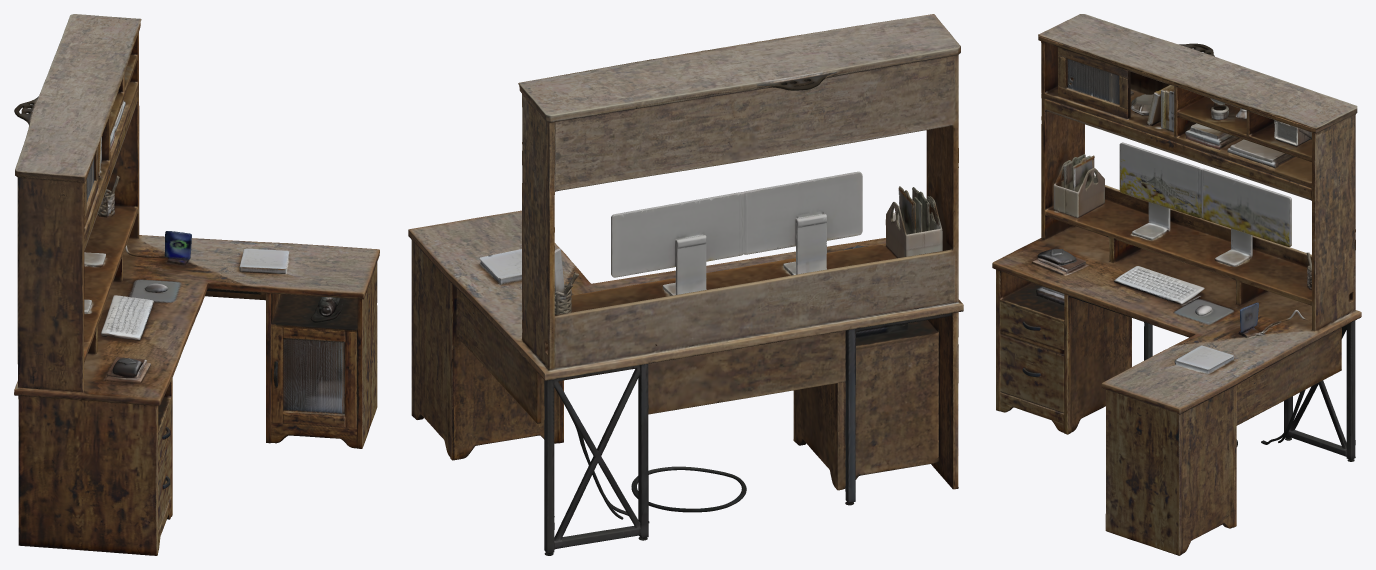
The model's file is wooden desk with hutch 3d model.glb.
3 views of the same model, side by side, from view 1: azimuth 30°, elevation 25°; view 2: azimuth 150°, elevation 25°; view 3: azimuth 270°, elevation 25° (orthographic). The views are drawn at different scales.
Visible parts, largest first — view 1: tripo_node_82eef712-85d6-415a-a16c-84e74a114e16; view 2: tripo_node_82eef712-85d6-415a-a16c-84e74a114e16; view 3: tripo_node_82eef712-85d6-415a-a16c-84e74a114e16.
Boxes of the visible parts, x1,y1,x2,y2 form: tripo_node_82eef712-85d6-415a-a16c-84e74a114e16: [14, 14, 379, 555]; tripo_node_82eef712-85d6-415a-a16c-84e74a114e16: [408, 14, 963, 555]; tripo_node_82eef712-85d6-415a-a16c-84e74a114e16: [992, 14, 1361, 555].
Size of the model in its own units: 0.9813 by 0.8424 by 0.7982.
Materials: 1 (1 with a texture image).
